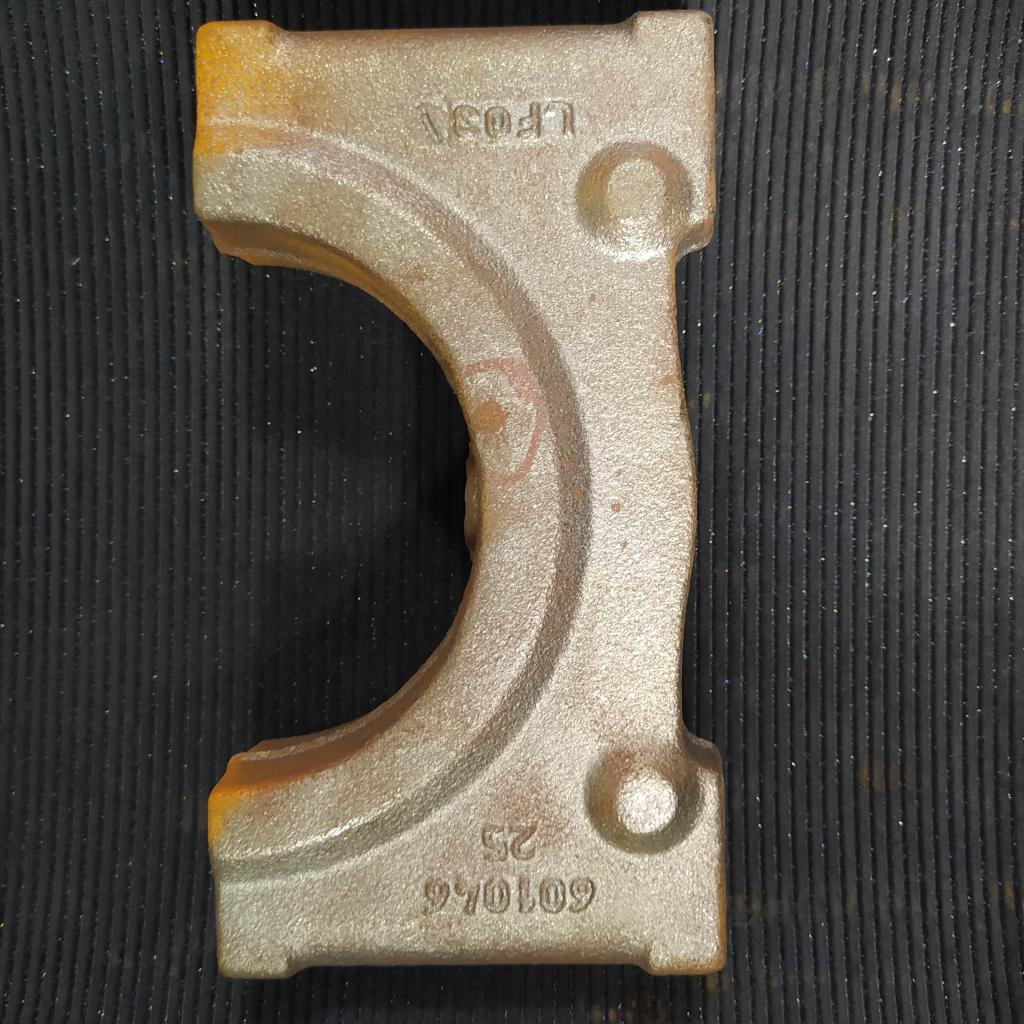mancha (ferrugem): (467, 400, 512, 439)
